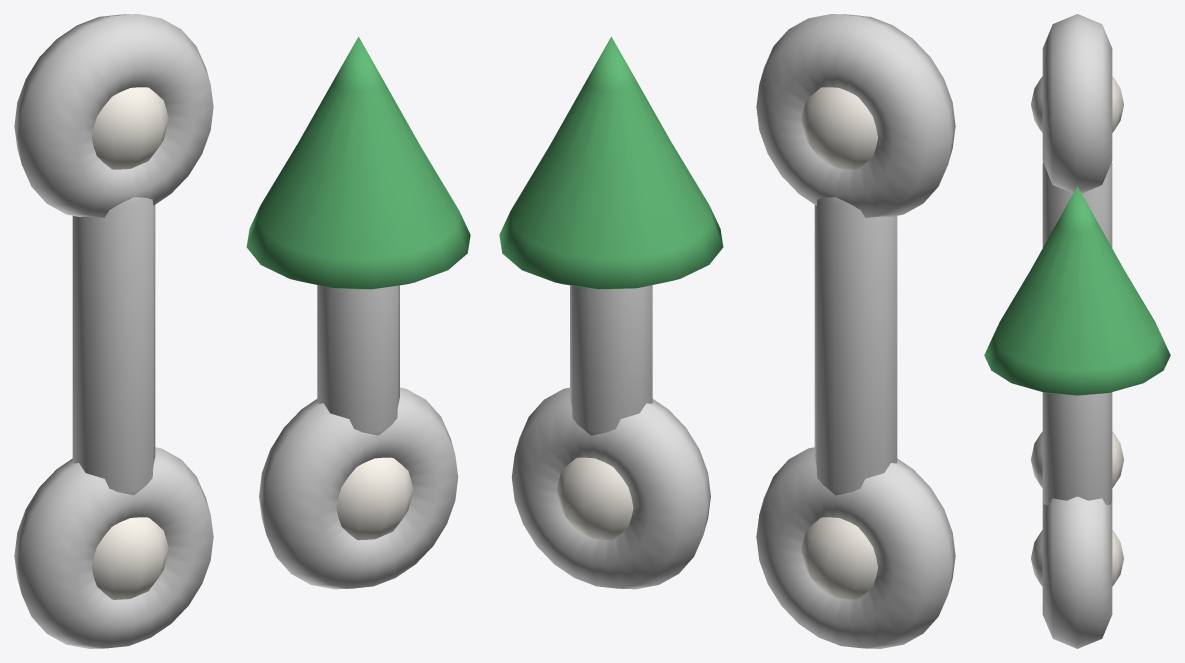
File: pull_request_v2.glb
3 views of the same model, side by side, from view 1: azimuth 30°, elevation 25°; view 2: azimuth 150°, elevation 25°; view 3: azimuth 270°, elevation 25° (orthographic). The views are drawn at different scales.
Parts seen in each view (by area): view 1: pull_request_v2; view 2: pull_request_v2; view 3: pull_request_v2.
Boxes of the visible parts, x1,y1,x2,y2 form: pull_request_v2: (14,14,470,648); pull_request_v2: (499,14,955,648); pull_request_v2: (984,14,1170,648).
Bounding box in the file's own units: 0.7276 × 1 × 0.3252.
